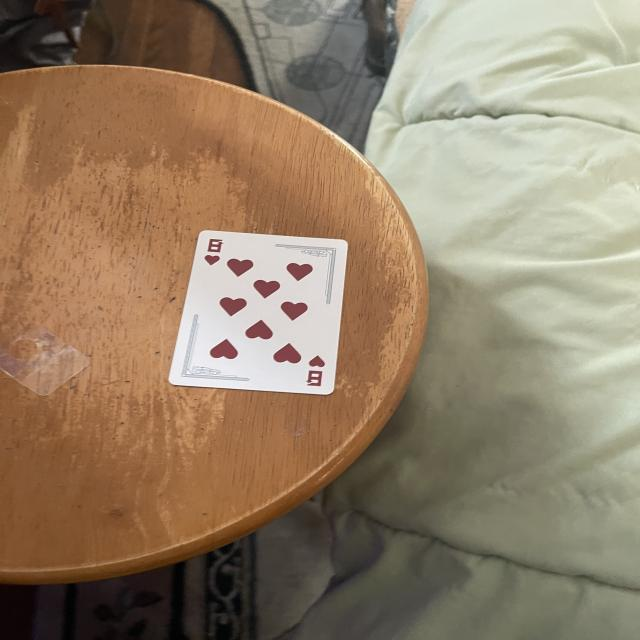8 of hearts: (167, 229, 348, 395)
